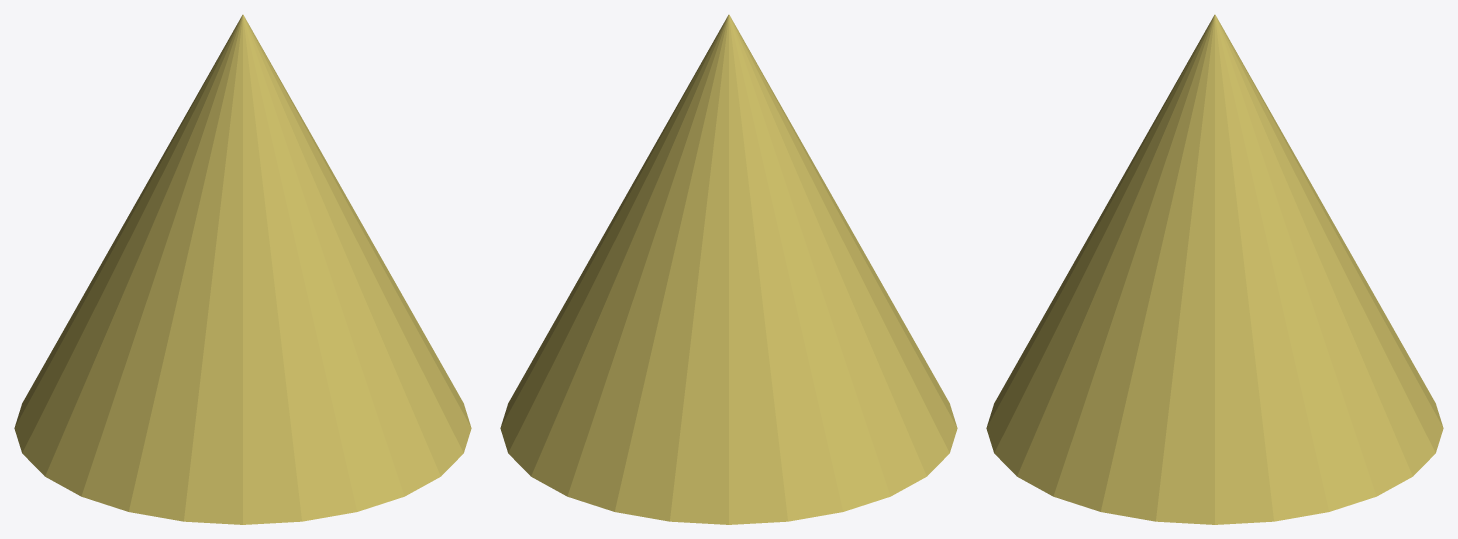
File: 3d-elementary-cone-yellow-20260125.glb
The picture shows the model from 3 angles, left to right: view 1: azimuth 30°, elevation 25°; view 2: azimuth 150°, elevation 25°; view 3: azimuth 270°, elevation 25°; orthographic projection.
Parts seen in each view (by area): view 1: Cone; view 2: Cone; view 3: Cone.
Part boxes in pixels (<box>): Cone: <box>14,14,471,524</box>; Cone: <box>500,14,957,524</box>; Cone: <box>986,14,1443,524</box>.
Bounding box in the file's own units: 2 × 2 × 2.
